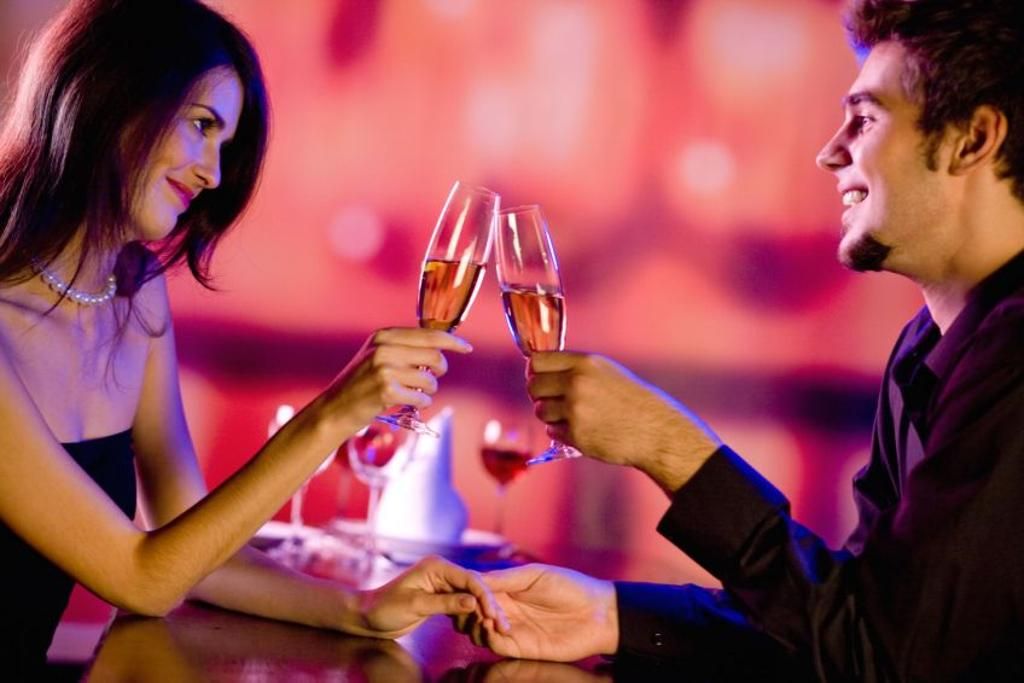face: (816, 34, 956, 264), (122, 60, 244, 238)
